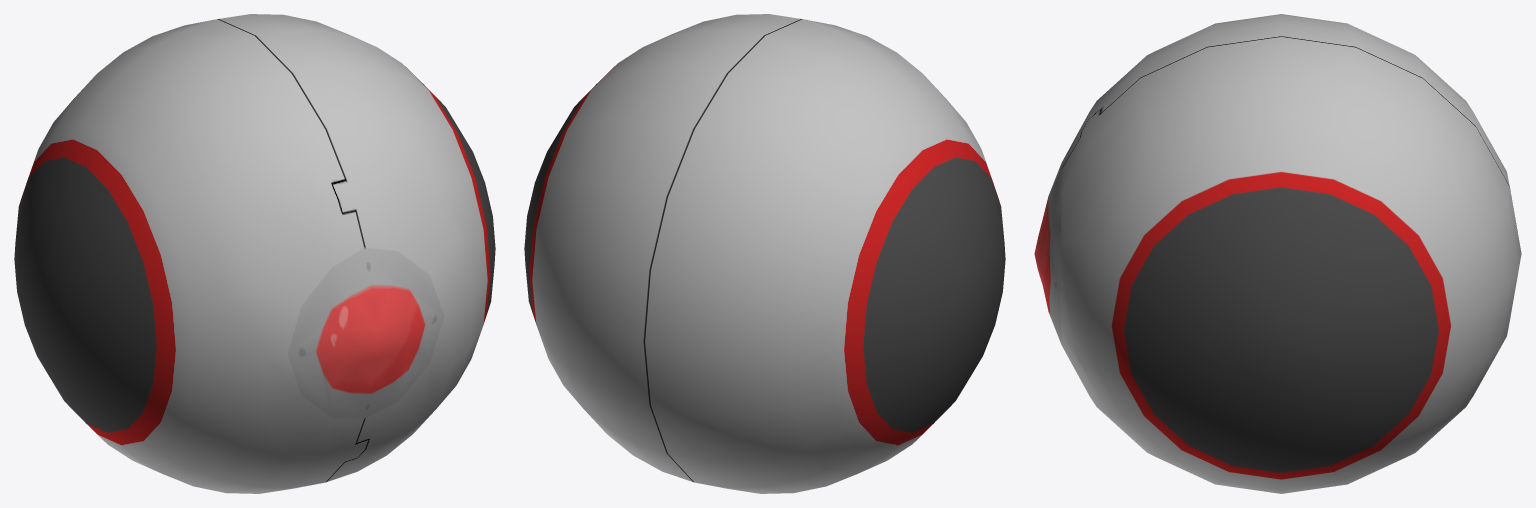
The model's file is ENEMY.fbx.
The picture shows the model from 3 angles, left to right: view 1: azimuth 30°, elevation 25°; view 2: azimuth 150°, elevation 25°; view 3: azimuth 270°, elevation 25°; orthographic projection.
Parts seen in each view (by area): view 1: enemy1; view 2: enemy1; view 3: enemy1.
Part boxes in pixels (box(x1,y1,x2,y2)): enemy1: box(14, 14, 495, 493); enemy1: box(524, 14, 1005, 493); enemy1: box(1034, 14, 1521, 493).
Bounding box in the file's own units: 50 × 50 × 50.71.
1 material, 1 textured.
